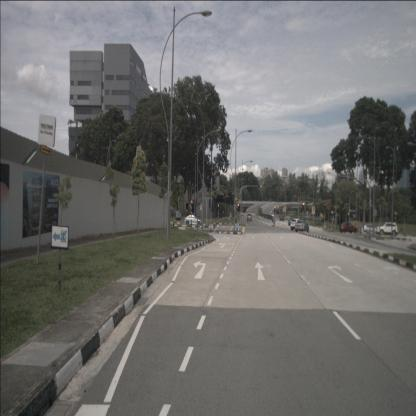vehicle-car: (376, 222, 398, 236), (359, 224, 378, 235), (184, 214, 201, 226), (339, 222, 357, 233), (295, 219, 309, 233), (290, 218, 303, 231), (288, 216, 294, 226), (247, 214, 252, 221), (280, 214, 284, 221)
